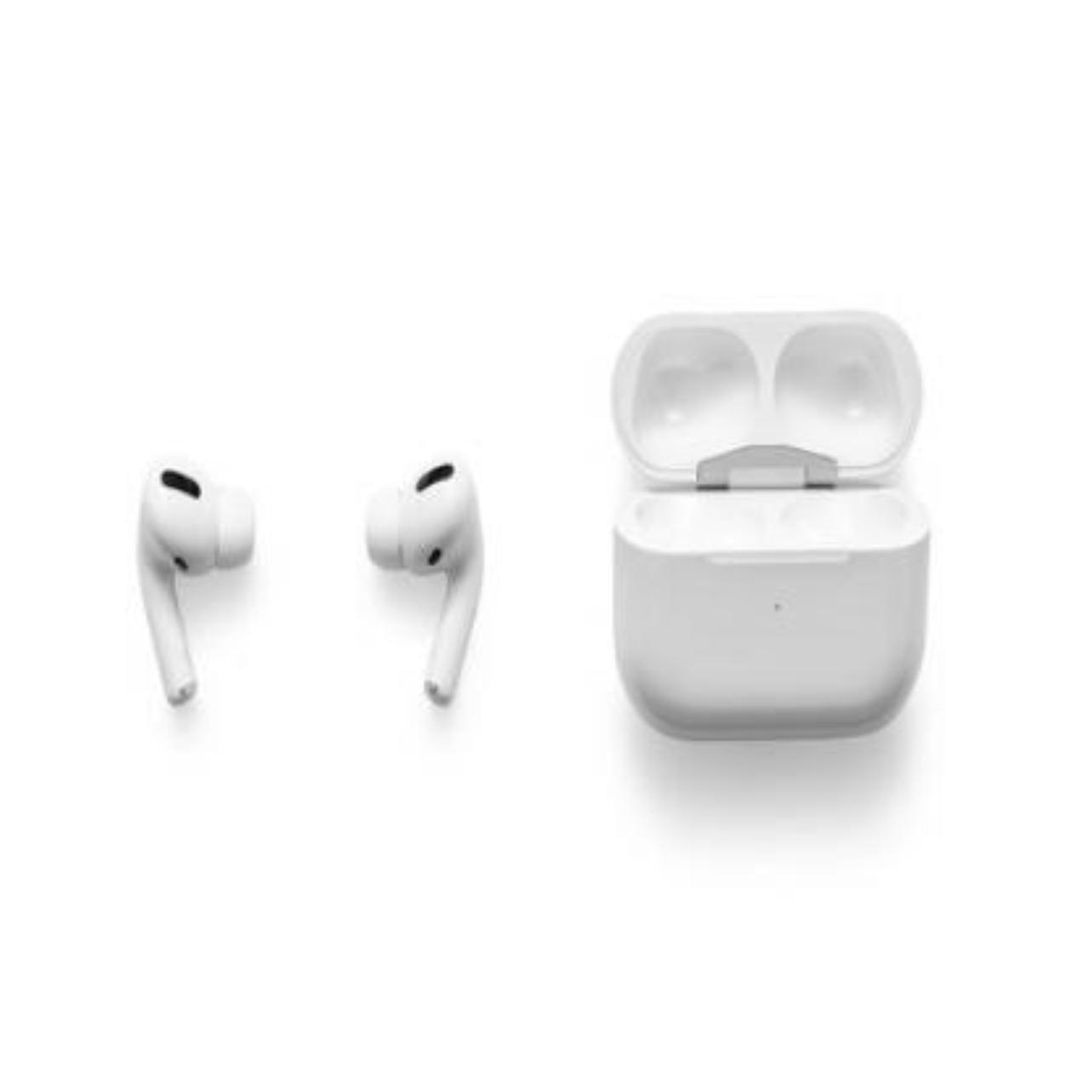Airpods_Units: (123, 459, 259, 736), (362, 459, 489, 723)
